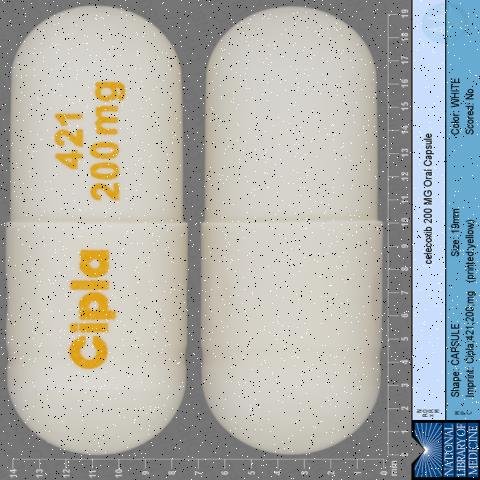Pill: (197, 6, 390, 469)
